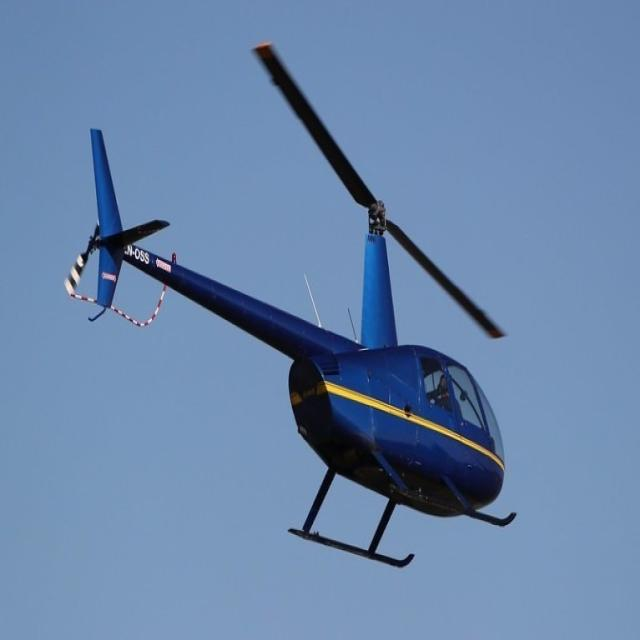CIV_HELO: (89, 128, 518, 572)
